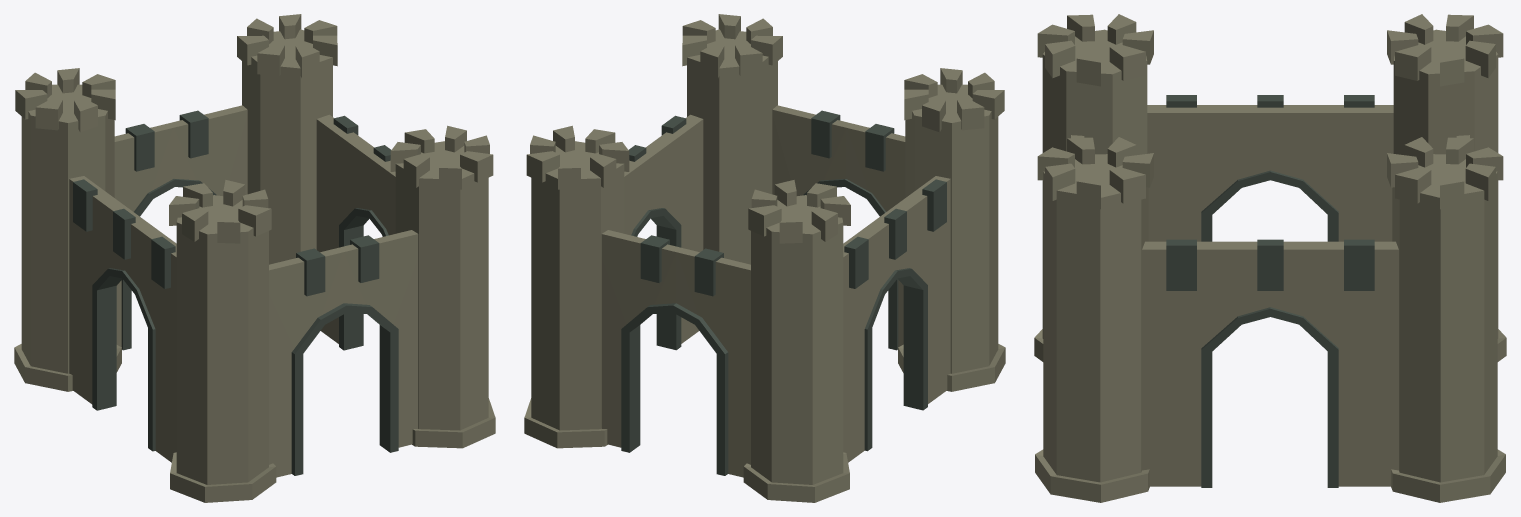
The model's file is Castle_1_lvl_mat.fbx.
3 renders of one model, left to right at view 1: azimuth 30°, elevation 25°; view 2: azimuth 150°, elevation 25°; view 3: azimuth 270°, elevation 25°, orthographic. The views are drawn at different scales.
Parts seen in each view (by area): view 1: Castle_1_lvl_mat; view 2: Castle_1_lvl_mat; view 3: Castle_1_lvl_mat.
Part boxes in pixels (x1,y1,x2,y2): Castle_1_lvl_mat: (14,14,495,502); Castle_1_lvl_mat: (524,14,1005,502); Castle_1_lvl_mat: (1034,14,1506,502).
Bounding box in the file's own units: 4.56 × 3.84 × 5.19.
